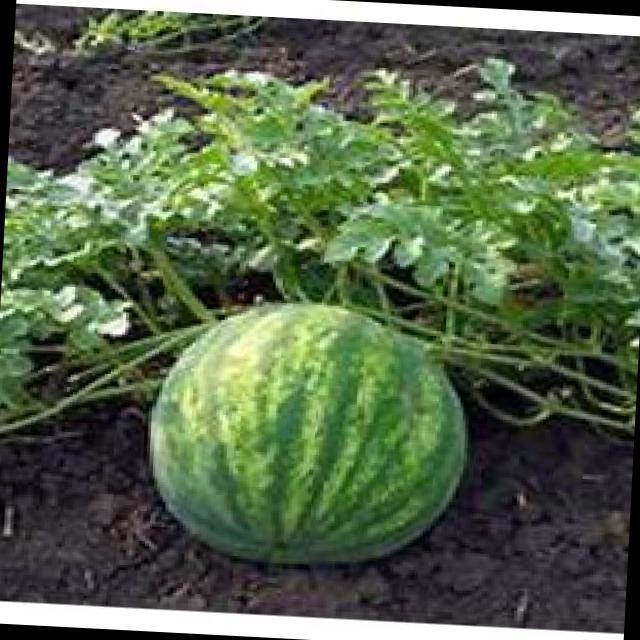watermelon: (150, 305, 466, 563)
